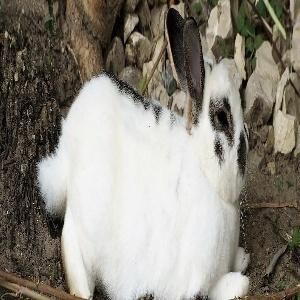rabbit: (59, 9, 250, 300)
